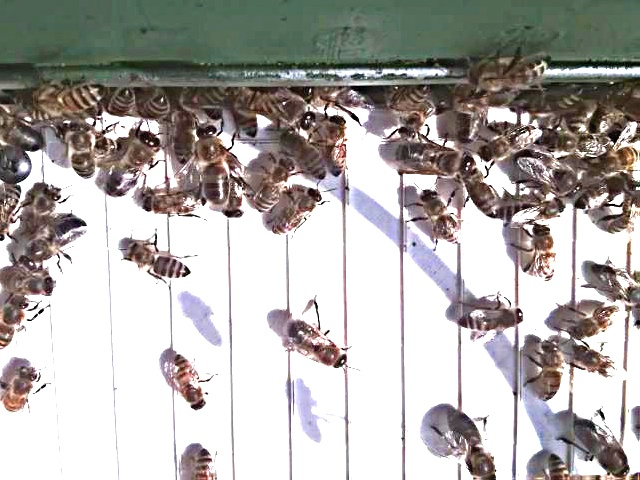Drone: (282, 316, 354, 375), (19, 214, 91, 273), (102, 130, 161, 201), (443, 407, 500, 480), (569, 417, 634, 480), (394, 142, 478, 180), (194, 124, 231, 206)
Worker: (127, 244, 195, 285), (480, 123, 543, 164), (274, 188, 325, 238), (420, 190, 462, 250), (285, 129, 331, 182), (254, 159, 294, 217), (171, 355, 211, 412), (0, 363, 42, 416), (498, 196, 569, 226), (459, 304, 529, 334), (569, 305, 629, 340), (526, 223, 559, 286), (464, 169, 500, 222), (0, 296, 30, 357), (0, 271, 60, 298), (536, 341, 562, 403)
